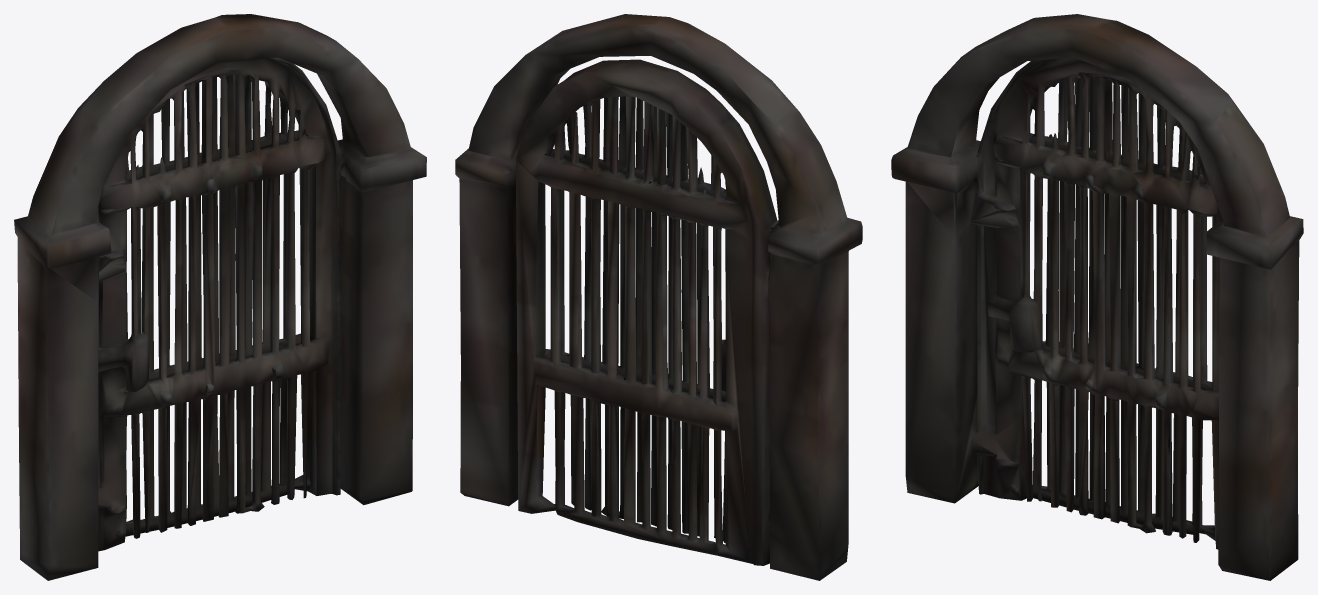
File: simple-iron-castle-door-v001.glb
3 views of the same model, side by side, from view 1: azimuth 30°, elevation 25°; view 2: azimuth 150°, elevation 25°; view 3: azimuth 330°, elevation 25° (orthographic).
Visible parts, largest first — view 1: simple-iron-castle-door; view 2: simple-iron-castle-door; view 3: simple-iron-castle-door.
Part boxes in pixels (bbox=[...]): simple-iron-castle-door: bbox=[14, 14, 426, 580]; simple-iron-castle-door: bbox=[455, 14, 862, 580]; simple-iron-castle-door: bbox=[891, 14, 1303, 580].
Bounding box in the file's own units: 2.08 × 2.66 × 0.3841.
Materials: 1 (1 with a texture image).
